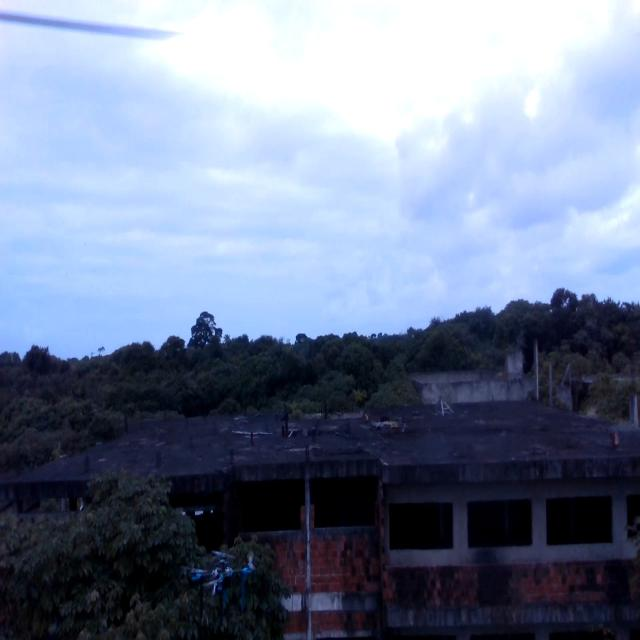-uav-: (186, 548, 268, 627)
